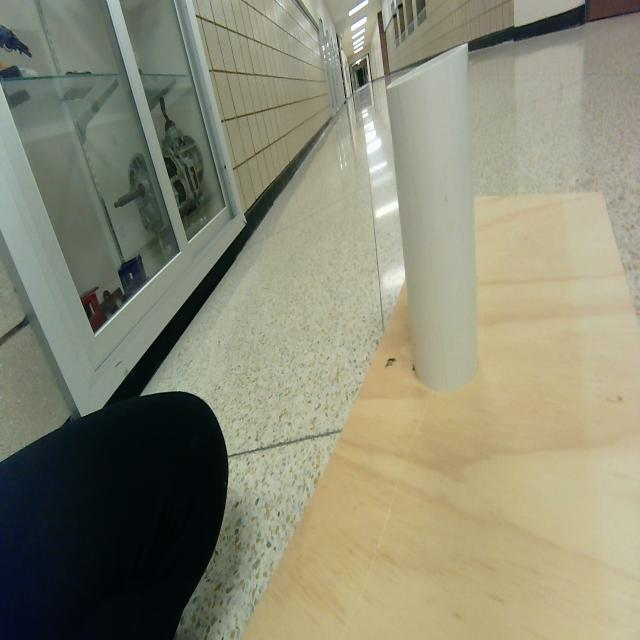coral: (388, 47, 477, 390)
